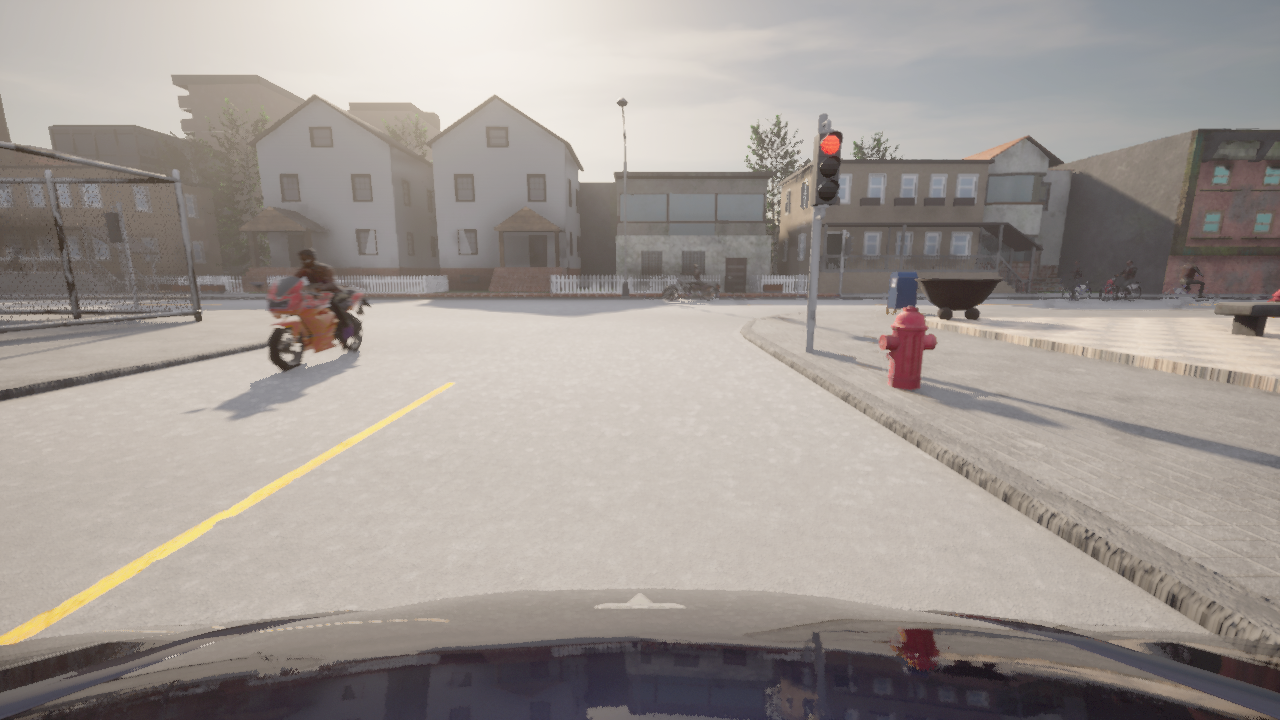cyclist: (0, 588, 1279, 719), (249, 276, 371, 373), (1165, 276, 1216, 307), (663, 275, 717, 301), (1045, 275, 1090, 301), (1100, 275, 1141, 300)
